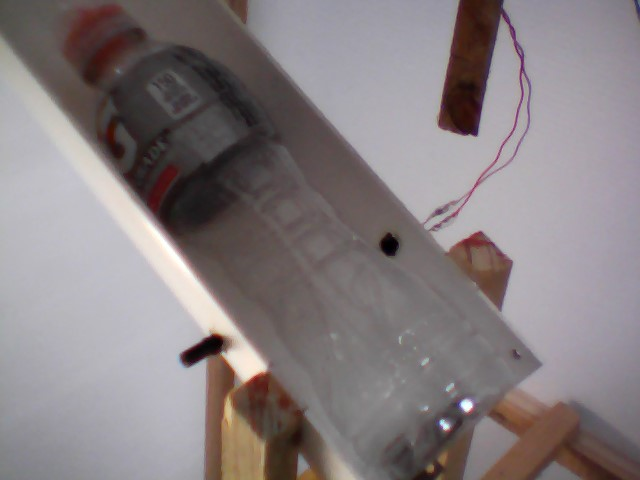plastico: (62, 5, 514, 480)
